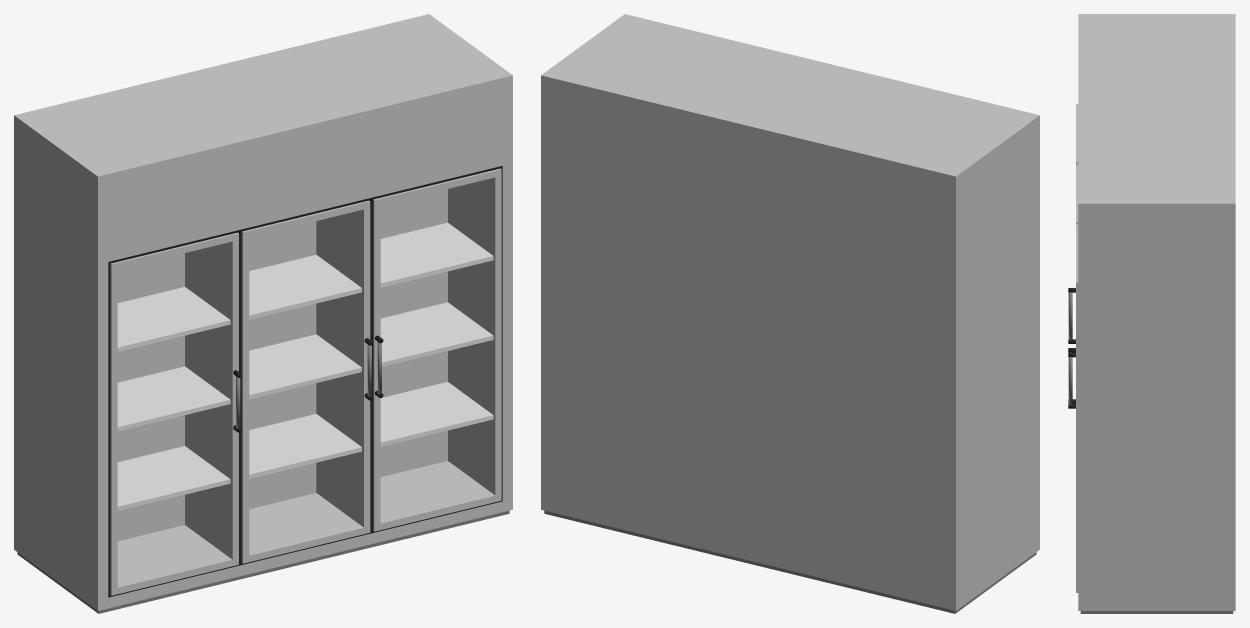
The model's file is Shelves_Refrigator_1.fbx.
3 views of the same model, side by side, from view 1: azimuth 30°, elevation 25°; view 2: azimuth 150°, elevation 25°; view 3: azimuth 270°, elevation 25° (orthographic). The views are drawn at different scales.
Parts seen in each view (by area): view 1: Shelves_Refrigator_1; view 2: Shelves_Refrigator_1; view 3: Shelves_Refrigator_1.
Boxes of the visible parts, box(x1,y1,x2,y2) form: Shelves_Refrigator_1: box(14, 14, 512, 613); Shelves_Refrigator_1: box(541, 14, 1039, 613); Shelves_Refrigator_1: box(1068, 14, 1235, 613).
Bounding box in the file's own units: 200 × 202 × 74.44.
